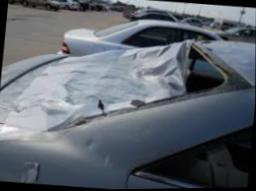Fender: (46, 114, 147, 184)
Windshield: (0, 38, 232, 134)
